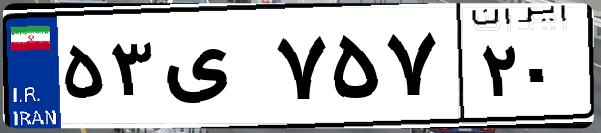0: (525, 38, 570, 115)
2: (475, 38, 525, 113)
3: (110, 28, 158, 98)
5: (330, 28, 385, 110), (57, 26, 110, 100)
7: (270, 28, 330, 110), (385, 28, 445, 110)
ی: (158, 20, 270, 120)
